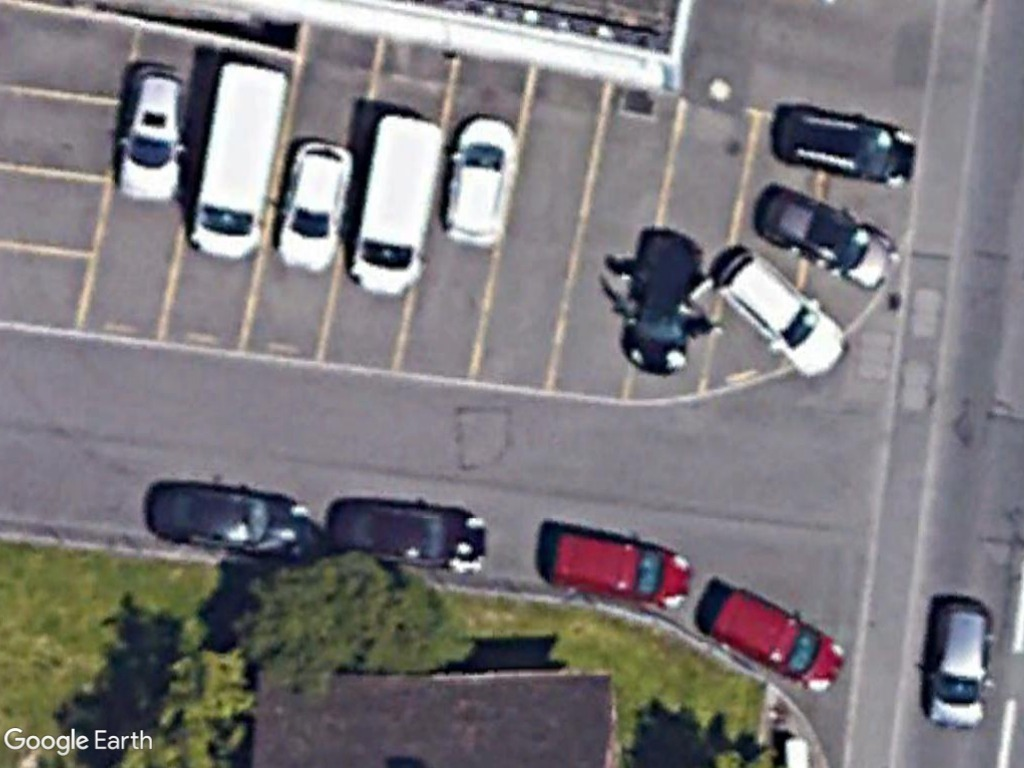car: (717, 244, 850, 384), (757, 180, 898, 294), (709, 581, 846, 697), (548, 526, 695, 613), (115, 62, 194, 210), (275, 138, 357, 275), (441, 114, 521, 250), (924, 601, 996, 732)
van: (184, 55, 294, 263), (350, 109, 446, 298)
